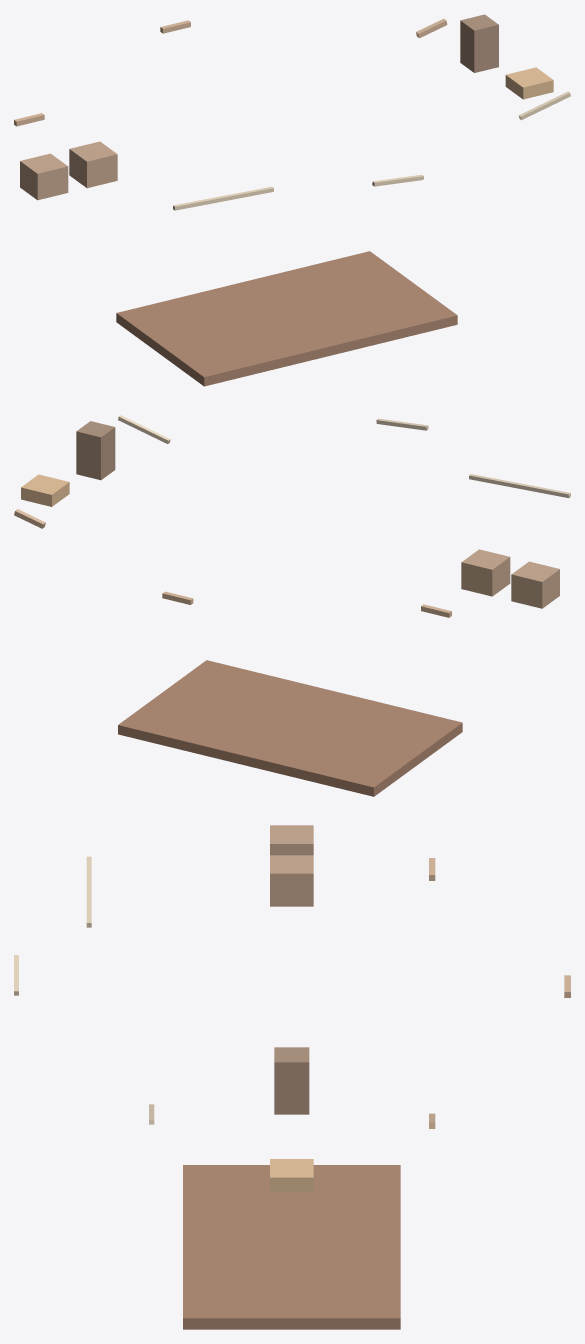
File: exploded.glb
3 renders of one model, top to bottom at view 1: azimuth 30°, elevation 25°; view 2: azimuth 150°, elevation 25°; view 3: azimuth 270°, elevation 25°, orthographic. The views are drawn at different scales.
Visible parts, largest first — view 1: substrate_warehouse_manipulation_cell, 03_model_+_uncertainty_quantification, 02_feature__representation_layer, 01_data_ingestion_and_labeling_pipeline, 04_deployment_target_+_monitoring_loop, control_->_01; view 2: substrate_warehouse_manipulation_cell, 03_model_+_uncertainty_quantification, 02_feature__representation_layer, 01_data_ingestion_and_labeling_pipeline, 04_deployment_target_+_monitoring_loop, control_->_01; view 3: substrate_warehouse_manipulation_cell, 03_model_+_uncertainty_quantification, 02_feature__representation_layer, 04_deployment_target_+_monitoring_loop, 01_data_ingestion_and_labeling_pipeline.
Part boxes in pixels (<box>): substrate_warehouse_manipulation_cell: <box>116,251,457,386</box>; 03_model_+_uncertainty_quantification: <box>460,14,498,72</box>; 02_feature__representation_layer: <box>69,141,117,188</box>; 01_data_ingestion_and_labeling_pipeline: <box>20,153,68,200</box>; 04_deployment_target_+_monitoring_loop: <box>505,67,553,99</box>; control_->_01: <box>173,186,273,210</box>; substrate_warehouse_manipulation_cell: <box>118,660,462,796</box>; 03_model_+_uncertainty_quantification: <box>76,421,115,480</box>; 02_feature__representation_layer: <box>461,549,510,596</box>; 01_data_ingestion_and_labeling_pipeline: <box>511,561,559,608</box>; 04_deployment_target_+_monitoring_loop: <box>21,474,69,506</box>; control_->_01: <box>469,474,570,498</box>; substrate_warehouse_manipulation_cell: <box>183,1165,400,1329</box>; 03_model_+_uncertainty_quantification: <box>274,1047,309,1114</box>; 02_feature__representation_layer: <box>270,855,313,906</box>; 04_deployment_target_+_monitoring_loop: <box>270,1159,313,1192</box>; 01_data_ingestion_and_labeling_pipeline: <box>270,825,313,855</box>.
Bounding box in the file's own units: 10.18 × 4.79 × 7.68.
